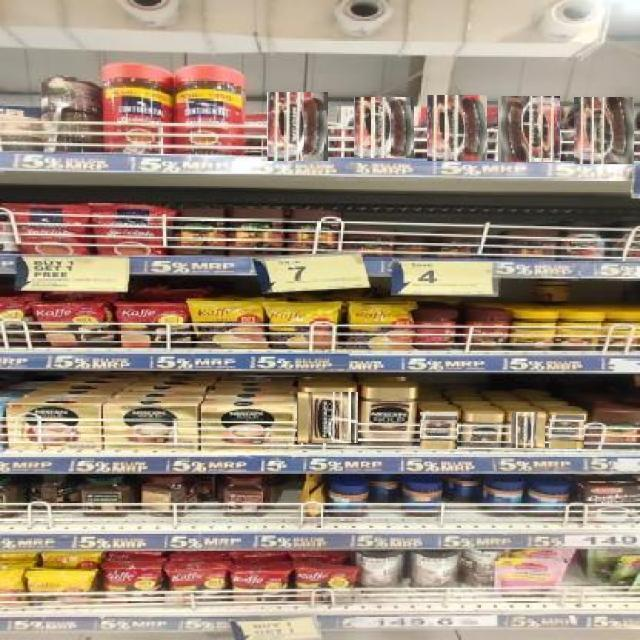Coffee: (266, 93, 328, 161), (498, 95, 560, 162), (573, 97, 634, 164), (426, 96, 487, 161), (353, 97, 414, 158), (363, 387, 414, 448), (297, 392, 358, 443), (562, 223, 607, 259), (464, 413, 505, 448), (420, 412, 457, 449), (510, 413, 545, 448), (548, 414, 584, 448)
